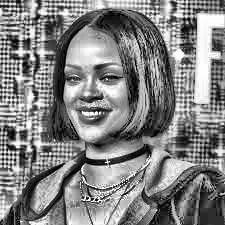happy: (51, 11, 146, 153)
